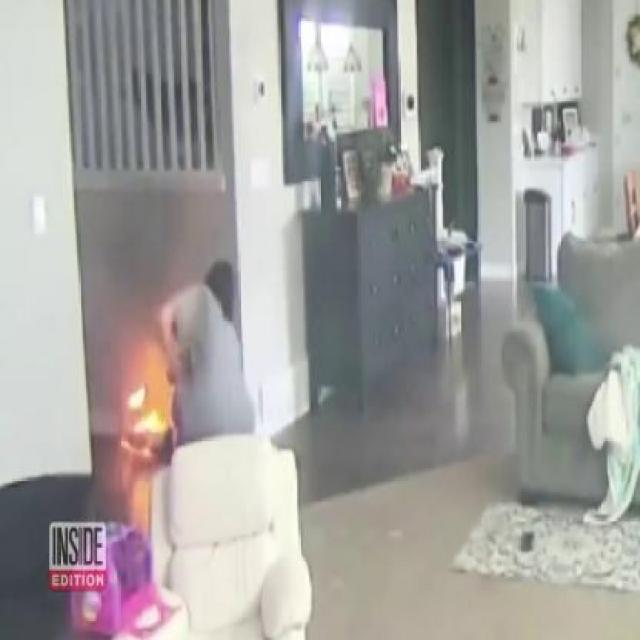fire: (122, 354, 173, 462)
